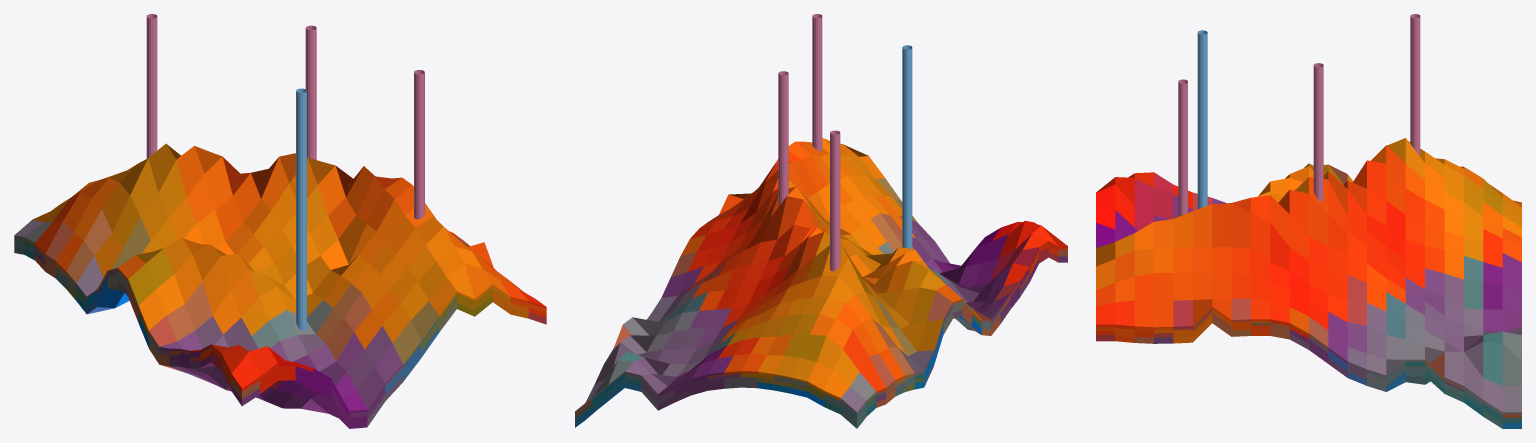
The model's file is reservoir.glb.
3 views of the same model, side by side, from view 1: azimuth 30°, elevation 25°; view 2: azimuth 150°, elevation 25°; view 3: azimuth 270°, elevation 25° (orthographic). The views are drawn at different scales.
Parts seen in each view (by area): view 1: reservoir, INJ, PROD-2, PROD-3, PROD-1; view 2: reservoir, INJ, PROD-2, PROD-3, PROD-1; view 3: reservoir, INJ, PROD-2, PROD-1, PROD-3.
Part boxes in pixels (x1,y1,x2,y2): reservoir: [14, 143, 546, 428]; INJ: [296, 88, 306, 330]; PROD-2: [146, 14, 157, 158]; PROD-3: [414, 70, 424, 219]; PROD-1: [305, 25, 316, 159]; reservoir: [575, 138, 1067, 428]; INJ: [902, 45, 912, 248]; PROD-2: [830, 130, 840, 271]; PROD-3: [812, 14, 822, 151]; PROD-1: [778, 71, 788, 206]; reservoir: [1096, 138, 1521, 428]; INJ: [1197, 30, 1207, 208]; PROD-2: [1410, 14, 1420, 155]; PROD-1: [1313, 63, 1323, 201]; PROD-3: [1178, 79, 1187, 216].
Size of the model in its own units: 0.3864 by 0.4023 by 0.5.
3 materials, 1 textured.
